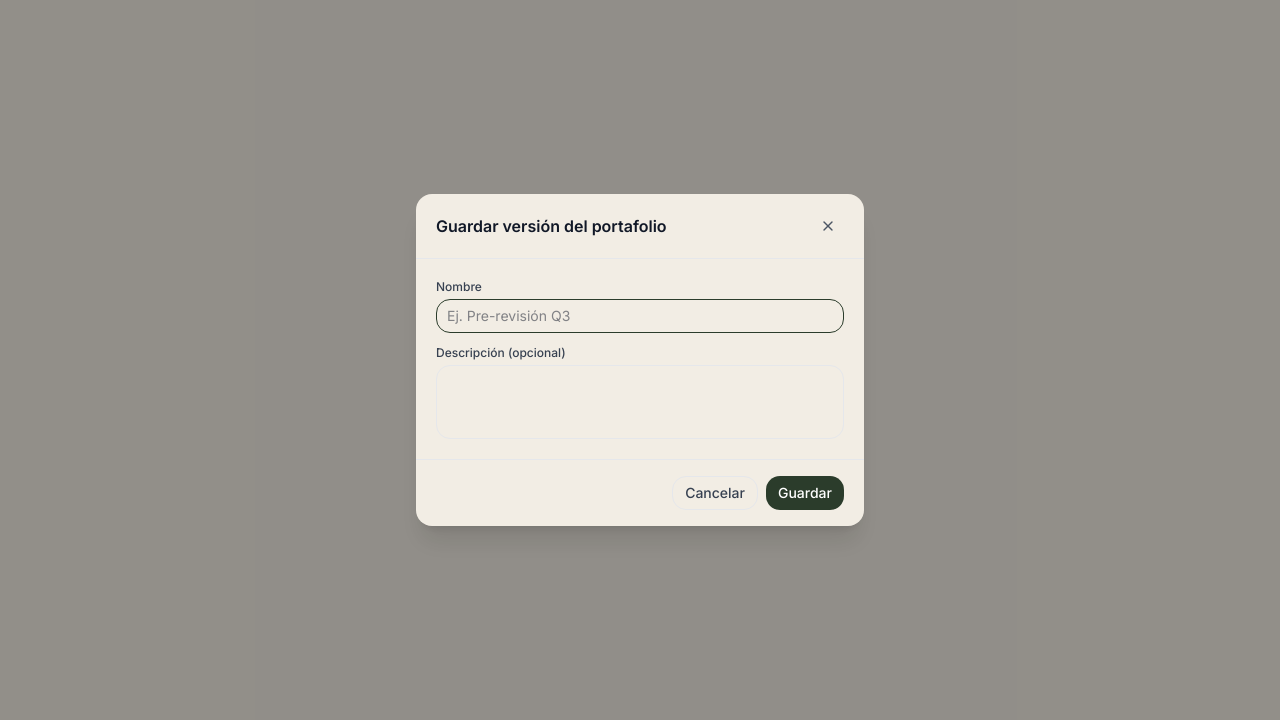
SnapshotModal — creation flow (SNAP-007) › empty name is blocked client-side and sends no request
Click the button "Guardar". click: (805, 493)
box: [766, 476, 844, 510]
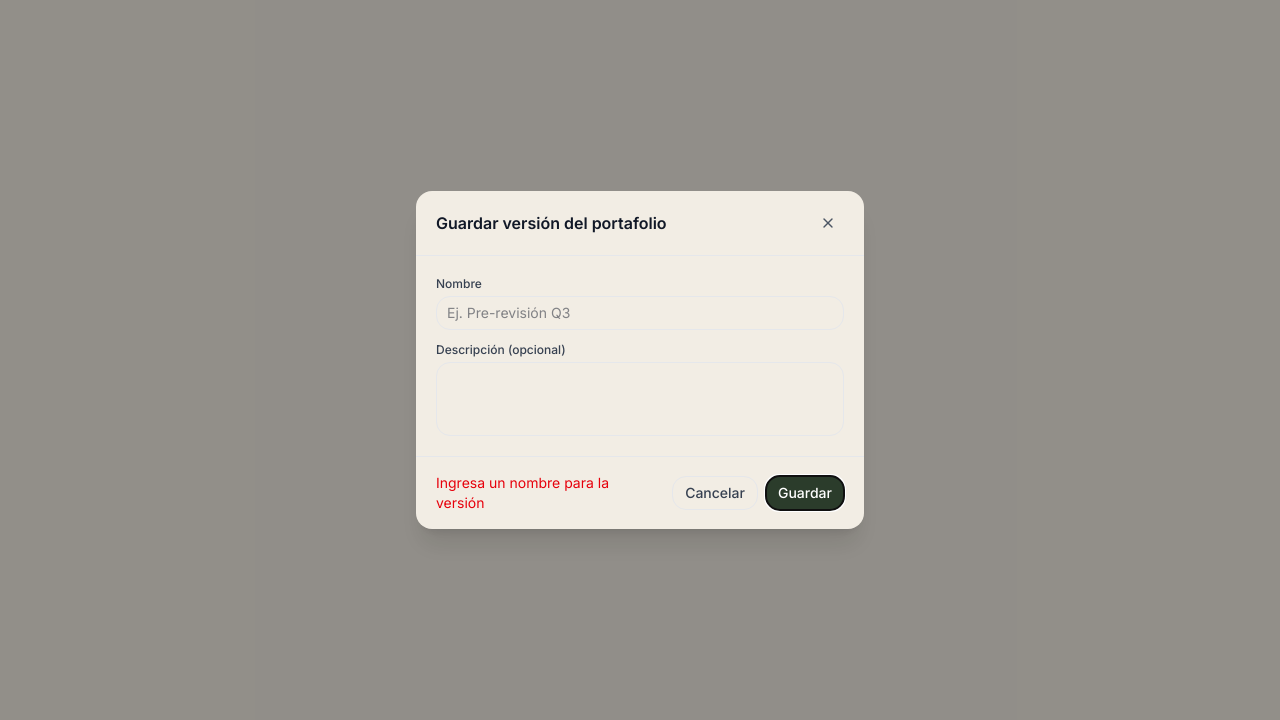
expect the text "Ingresa un nombre para la versión" is shown: met, box [436, 474, 609, 511]
